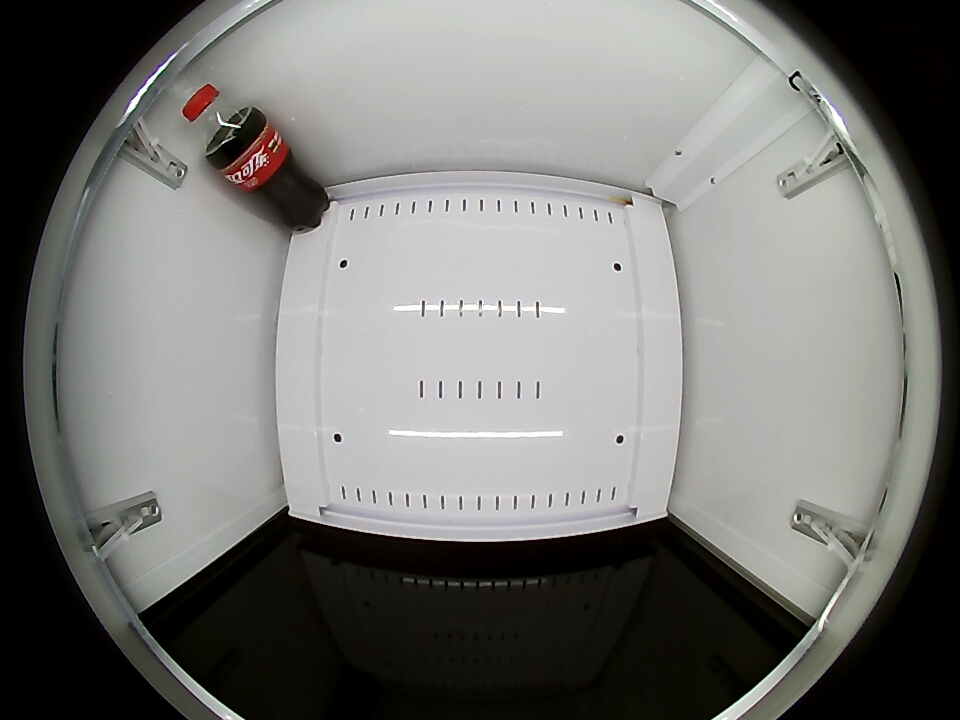kele-b: (181, 84, 257, 161)
